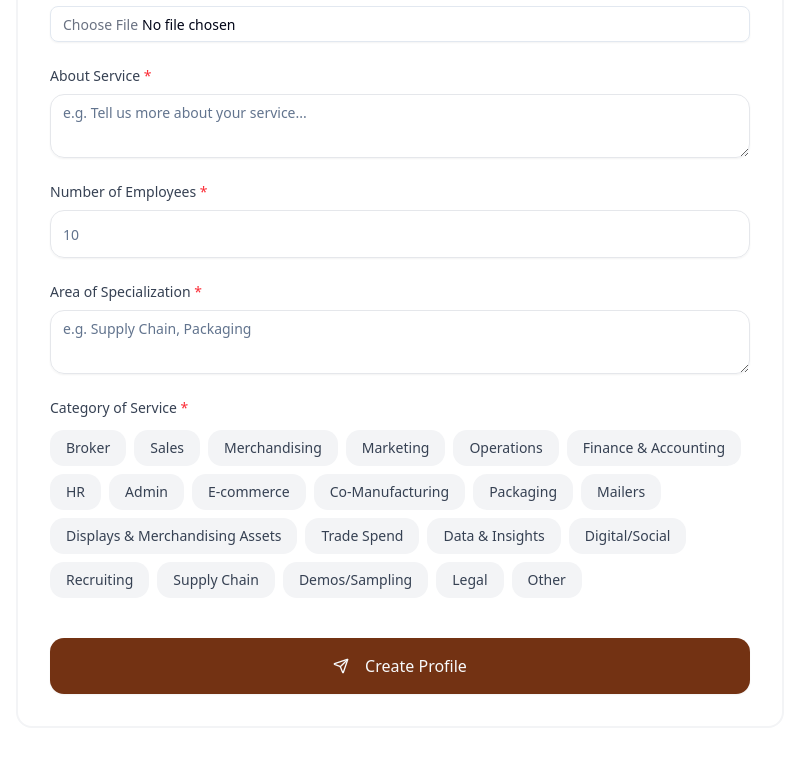
Test: ServiceOnboarding Component › Category of Service Selection › should show broker services when Broker is selected
(page scrolled)
Click the button "Broker".
click(88, 448)  # box [50,430,126,466]
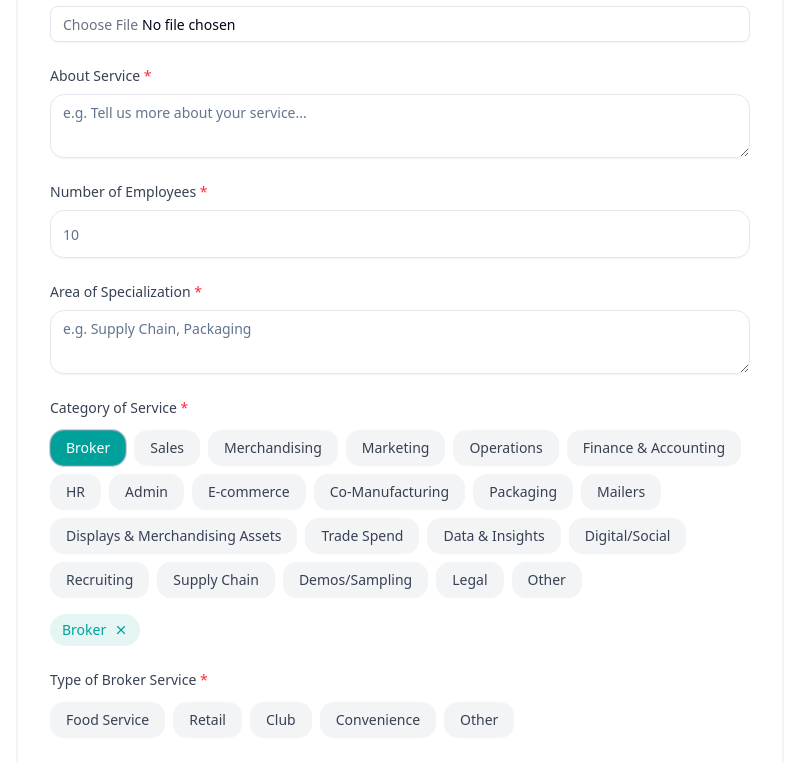
Expected: the text "Type of Broker Service" is shown, [50,670,196,689]
